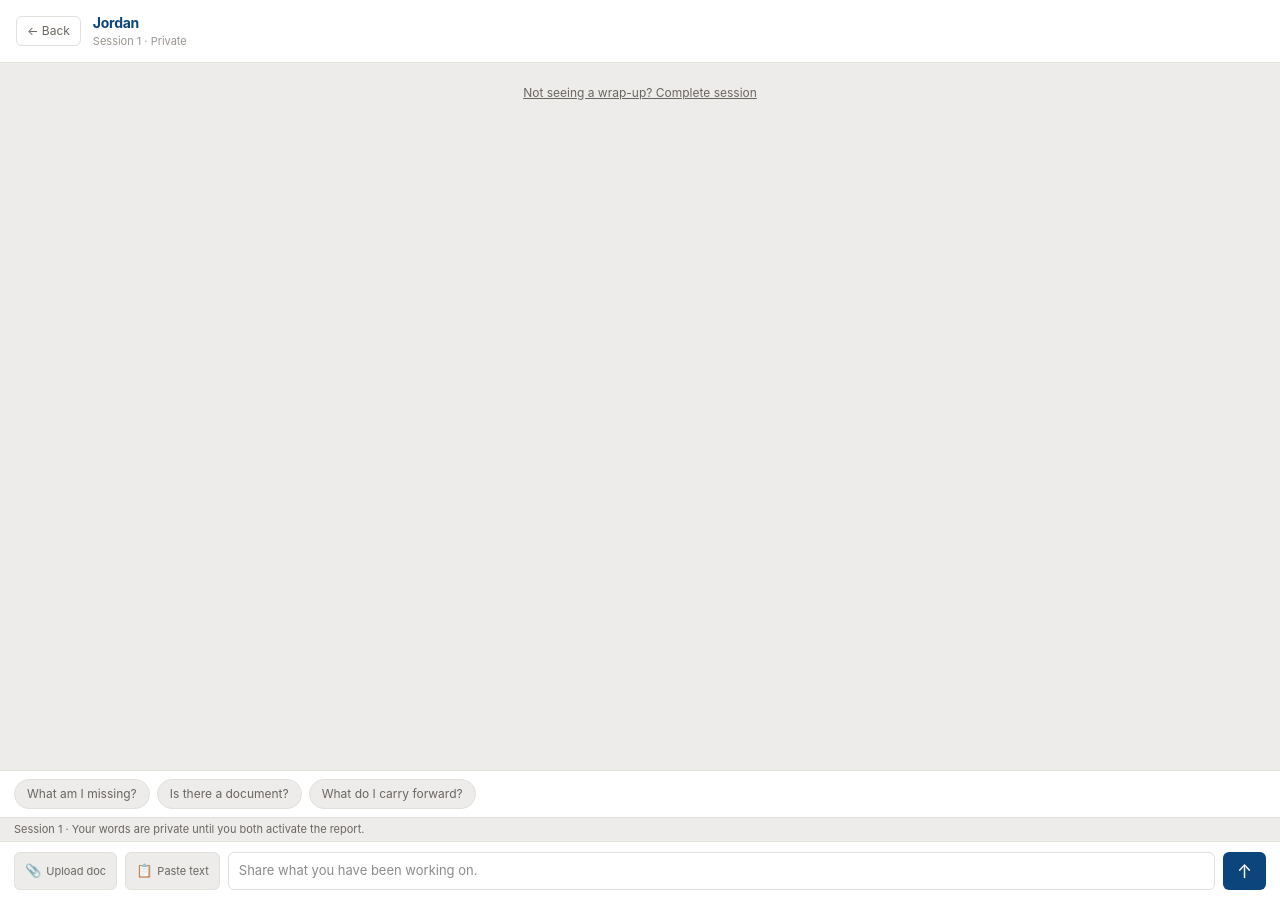
#4 END-CONFIRM: finishing a check-in requires explicit confirmation › does not finalise on the first click - it asks to confirm first
Click the button "Not seeing a wrap-up? Complete session".
click(640, 92)  # box [523,84,757,102]
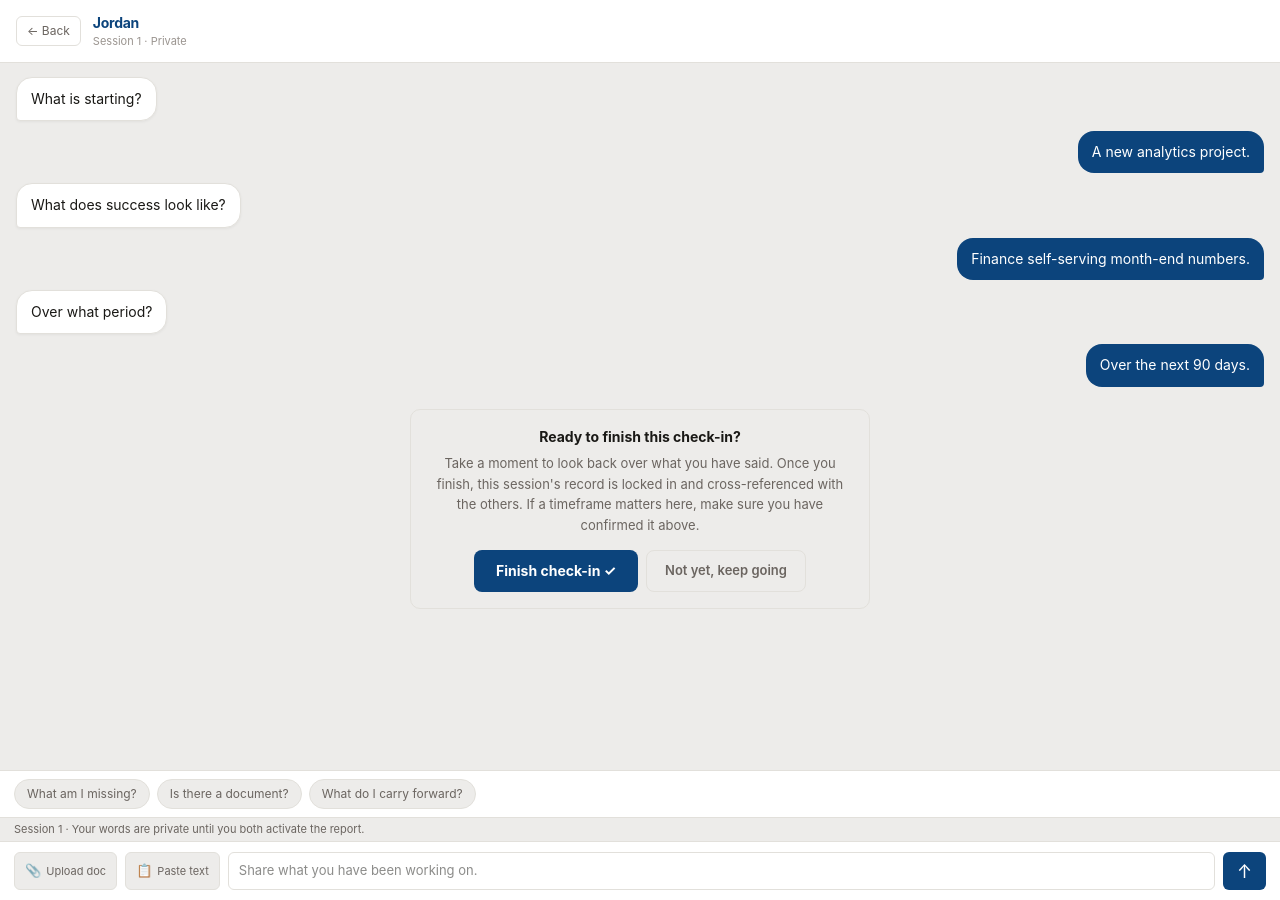
Now the text "Ready to finish this check-in?" is shown, box [539,428,741,445]
